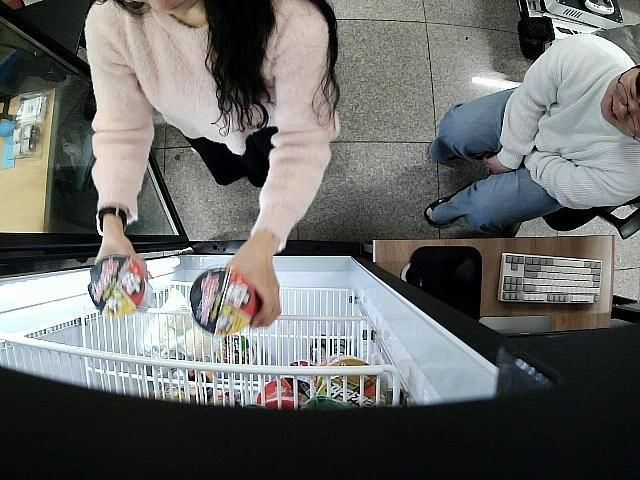08_buldak_S: (188, 268, 260, 335), (89, 254, 162, 318)
